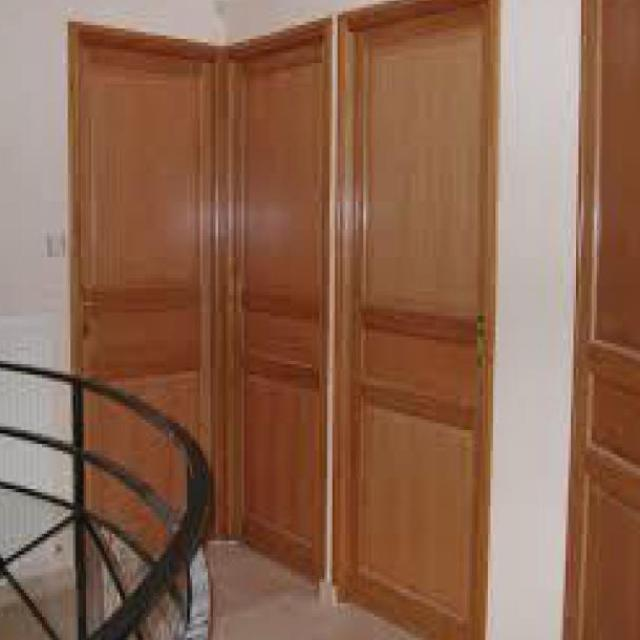door: (342, 3, 493, 640), (222, 13, 332, 593)
